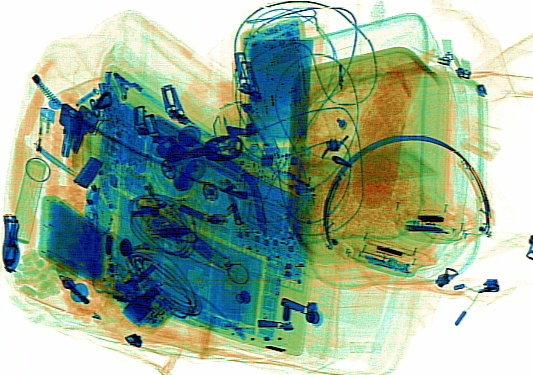lighter: (32, 103, 56, 168)
